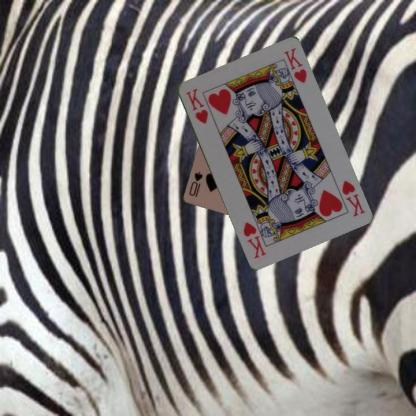Kh: (339, 178, 366, 218), (183, 86, 209, 126)
